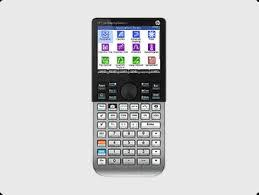Calculator: (83, 9, 173, 183)
